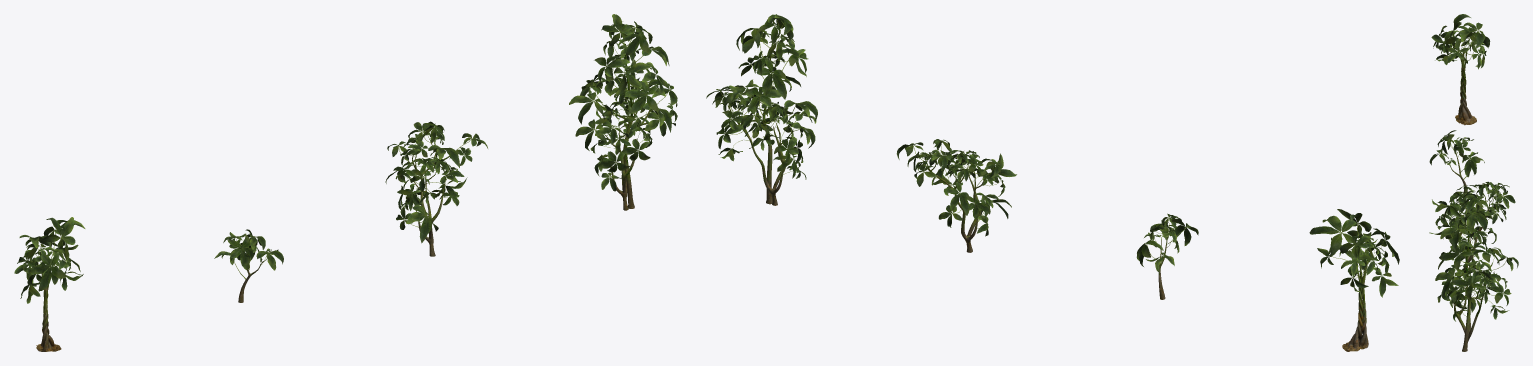
File: pachira_aquatica_01_draco.glb
3 renders of one model, left to right at view 1: azimuth 30°, elevation 25°; view 2: azimuth 150°, elevation 25°; view 3: azimuth 270°, elevation 25°, orthographic. The views are drawn at different scales.
Visible parts, largest first — view 1: pachira_aquatica_01_leaves_d, pachira_aquatica_01_leaves_c, pachira_aquatica_01_leaves_a, pachira_aquatica_01_leaves_b, pachira_aquatica_01_bark_d, pachira_aquatica_01_bark_c, pachira_aquatica_01_bark_a; view 2: pachira_aquatica_01_leaves_d, pachira_aquatica_01_leaves_c, pachira_aquatica_01_leaves_a, pachira_aquatica_01_leaves_b, pachira_aquatica_01_bark_d, pachira_aquatica_01_bark_a, pachira_aquatica_01_bark_c; view 3: pachira_aquatica_01_leaves_d, pachira_aquatica_01_leaves_c, pachira_aquatica_01_leaves_a, pachira_aquatica_01_leaves_b, pachira_aquatica_01_bark_d, pachira_aquatica_01_bark_a, pachira_aquatica_01_bark_c, pachira_aquatica_01_bark_b.
Part boxes in pixels (bbox=[...]): pachira_aquatica_01_leaves_d: bbox=[569, 14, 677, 191]; pachira_aquatica_01_leaves_c: bbox=[385, 121, 487, 243]; pachira_aquatica_01_leaves_a: bbox=[14, 217, 85, 303]; pachira_aquatica_01_leaves_b: bbox=[214, 229, 283, 279]; pachira_aquatica_01_bark_d: bbox=[595, 44, 652, 210]; pachira_aquatica_01_bark_c: bbox=[409, 137, 457, 256]; pachira_aquatica_01_bark_a: bbox=[36, 265, 61, 351]; pachira_aquatica_01_leaves_d: bbox=[706, 14, 817, 179]; pachira_aquatica_01_leaves_c: bbox=[896, 139, 1016, 236]; pachira_aquatica_01_leaves_a: bbox=[1309, 209, 1399, 297]; pachira_aquatica_01_leaves_b: bbox=[1136, 213, 1198, 274]; pachira_aquatica_01_bark_d: bbox=[728, 43, 793, 205]; pachira_aquatica_01_bark_a: bbox=[1342, 259, 1368, 351]; pachira_aquatica_01_bark_c: bbox=[923, 159, 989, 252]; pachira_aquatica_01_leaves_d: bbox=[1429, 190, 1518, 321]; pachira_aquatica_01_leaves_c: bbox=[1432, 181, 1515, 244]; pachira_aquatica_01_leaves_a: bbox=[1431, 14, 1490, 69]; pachira_aquatica_01_leaves_b: bbox=[1429, 130, 1484, 179]; pachira_aquatica_01_bark_d: bbox=[1454, 219, 1492, 351]; pachira_aquatica_01_bark_a: bbox=[1455, 50, 1476, 125]; pachira_aquatica_01_bark_c: bbox=[1453, 194, 1497, 268]; pachira_aquatica_01_bark_b: bbox=[1447, 149, 1467, 195].
Bounding box in the file's own units: 6.87 × 1.9 × 0.9971.
Materials: 2 (2 with a texture image).
